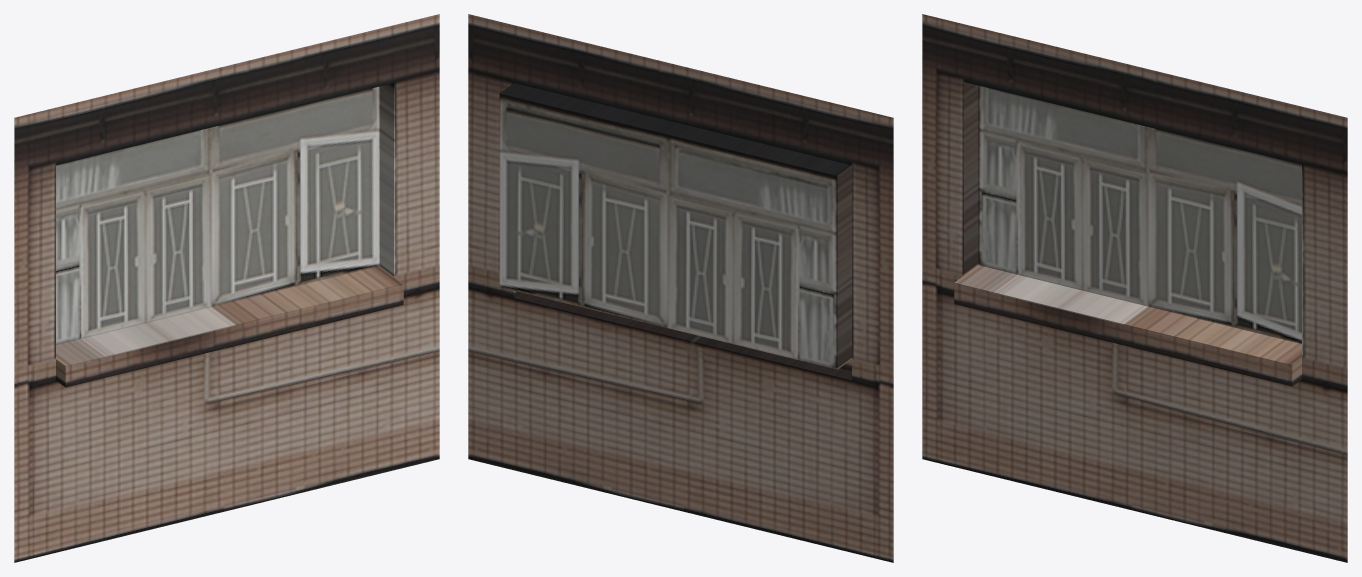
File: CT_Building_Piece_Single_01.fbx
The picture shows the model from 3 angles, left to right: view 1: azimuth 30°, elevation 25°; view 2: azimuth 150°, elevation 25°; view 3: azimuth 330°, elevation 25°; orthographic projection.
Visible parts, largest first — view 1: CT_Building_Piece_Single_01; view 2: CT_Building_Piece_Single_01; view 3: CT_Building_Piece_Single_01.
Boxes of the visible parts, <box> form: CT_Building_Piece_Single_01: <box>14,14,439,562</box>; CT_Building_Piece_Single_01: <box>468,14,893,562</box>; CT_Building_Piece_Single_01: <box>922,14,1347,562</box>.
Size of the model in its own units: 256 by 256 by 25.
